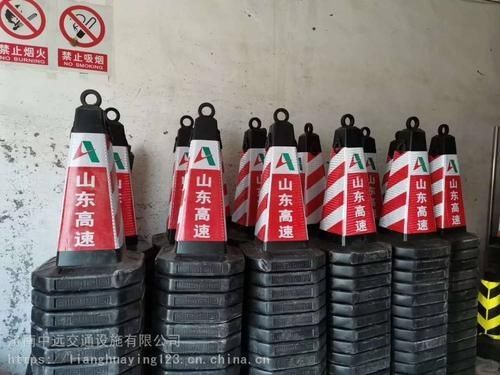cone_barrel: (31, 90, 133, 273), (162, 112, 235, 260), (249, 115, 313, 253), (318, 117, 381, 245), (378, 120, 437, 242), (426, 125, 472, 233), (228, 114, 266, 236), (296, 118, 325, 215)
